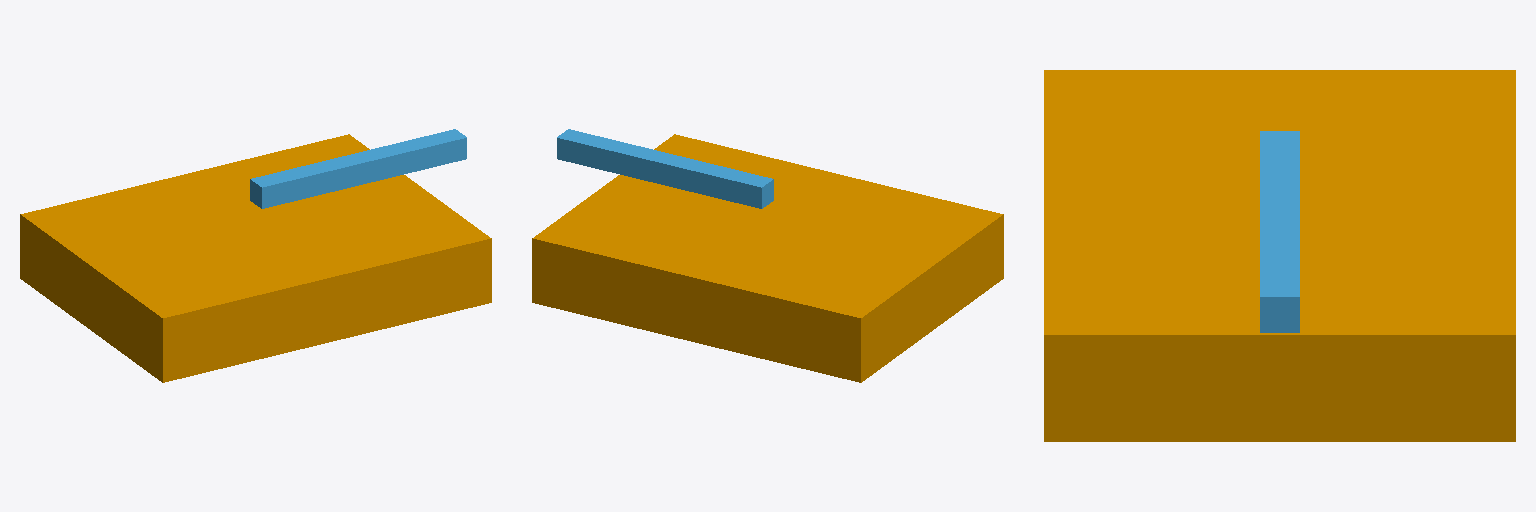
robot.urdf — simplecae_cadgen_arm:
<?xml version="1.0"?>
<!-- Design ledger: SI metres, radians, kilograms. Static mathematical reference.
 Base box 0.16 x 0.12 x 0.03 m, 2 kg, COM z=0.02 m; box inertias m*(b^2+c^2)/12.
 Arm is the actual cadgen 100 x 10 x 10 mm export, homogeneous density 7800 kg/m^3,
 mass 0.078 kg, COM x=0.05 m, Ixx=m*(0.01^2+0.01^2)/12,
 Iyy=Izz=m*(0.10^2+0.01^2)/12. These are prescribed reference data, not a material certificate.
 Shoulder origin z=0.05 m, axis -Y so positive angle lifts +X toward +Z.
 Arm component frame is its link frame; fixed upstream port is x=0, payload port x=0.10 m.
 Visual STL is in mm; explicit 0.001 scale converts it to URDF metres. Collision box is SI.
 Fixed-base holding and declared ground contacts are separate case assumptions. -->
<robot name="simplecae_cadgen_arm">
  <link name="base">
    <inertial><origin xyz="0 0 0.02"/><mass value="2"/><inertia ixx="0.00255" iyy="0.004416666666666667" izz="0.006666666666666667" ixy="0" ixz="0" iyz="0"/></inertial>
    <visual><origin xyz="0 0 0.02"/><geometry><box size="0.16 0.12 0.03"/></geometry></visual>
    <collision><origin xyz="0 0 0.02"/><geometry><box size="0.16 0.12 0.03"/></geometry></collision>
  </link>
  <link name="arm">
    <inertial><origin xyz="0.05 0 0"/><mass value="0.078"/><inertia ixx="0.0000013" iyy="0.00006565" izz="0.00006565" ixy="0" ixz="0" iyz="0"/></inertial>
    <visual><geometry><mesh filename="assets/cadgen-beam.stl" scale="0.001 0.001 0.001"/></geometry></visual>
    <collision><origin xyz="0.05 0 0"/><geometry><box size="0.1 0.01 0.01"/></geometry></collision>
  </link>
  <joint name="shoulder" type="revolute"><parent link="base"/><child link="arm"/><origin xyz="0 0 0.05"/><axis xyz="0 -1 0"/><limit lower="-3.141592653589793" upper="3.141592653589793" effort="8" velocity="1"/></joint>
</robot>

--- What the picture shows (computed from the rendered views, not written in the file) ---
The picture shows the robot from 3 angles, left to right: view 1: azimuth 30°, elevation 25°; view 2: azimuth 150°, elevation 25°; view 3: azimuth 270°, elevation 25°; orthographic projection.
Model simplecae_cadgen_arm with 2 links and 1 joints (1 revolute), rooted at base, posed all joints at 0.
Visible links, largest first — view 1: base, arm; view 2: base, arm; view 3: base, arm.
Link boxes in pixels (box(x1,y1,x2,y2)): base: box(20, 134, 491, 382); arm: box(250, 129, 466, 208); base: box(532, 134, 1003, 382); arm: box(557, 129, 773, 208); base: box(1044, 70, 1515, 441); arm: box(1260, 131, 1299, 332).
Bounding box of the posed robot: 0.18 × 0.12 × 0.05 m (x, y, z).
1 mesh visuals loaded from 1 distinct referenced files (1 binary STL).
